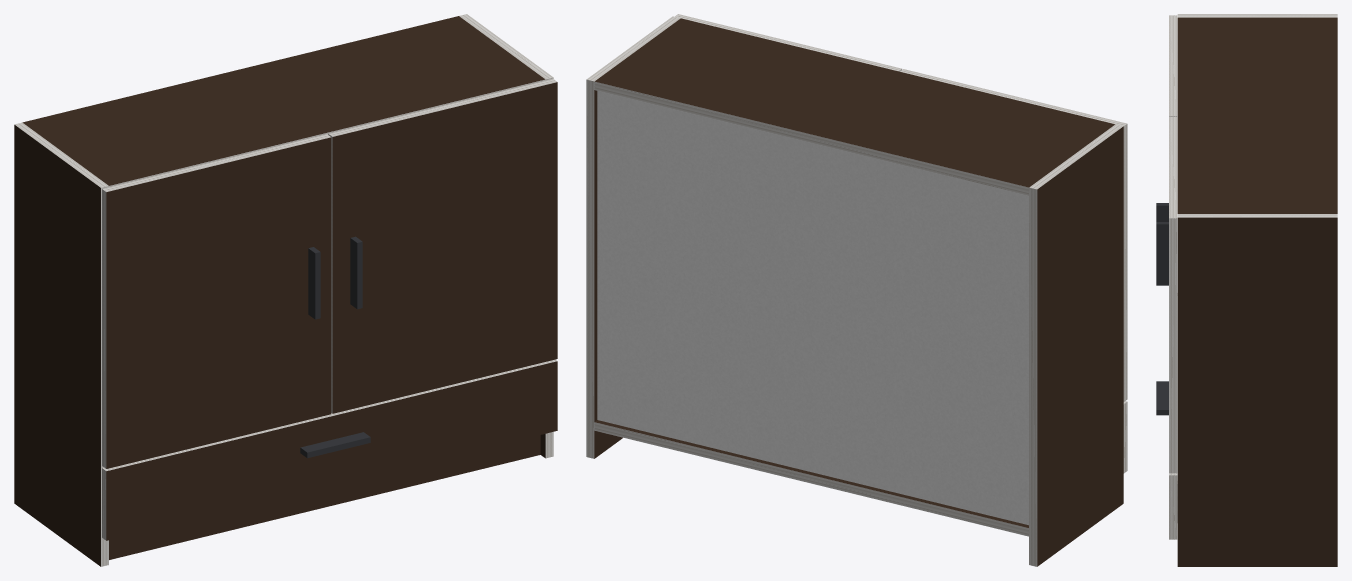
Rendered from BIB-CON-std.glb.
The picture shows the model from 3 angles, left to right: view 1: azimuth 30°, elevation 25°; view 2: azimuth 150°, elevation 25°; view 3: azimuth 270°, elevation 25°; orthographic projection. The views are drawn at different scales.
Parts seen in each view (by area): view 1: door-r:pbr, door-l:pbr, top:pbr, side-l:pbr, d1-front:pbr, plinth:pbr, pull, door-l:sheet:eyJtIjoicGx5Iiwic2lkZSI6ImVkZ2UtbG9uZyIsInNlZWQ, d1-front:sheet:eyJtIjoicGx5Iiwic2lkZSI6ImVkZ2UtbG9uZyIsInNlZ, door-l:sheet:eyJtIjoicGx5Iiwic2lkZSI6ImVkZ2UtZW5kIiwic2VlZCI, door-r:sheet:eyJtIjoicGx5Iiwic2lkZSI6ImVkZ2UtZW5kIiwic2VlZCI, top:sheet:eyJtIjoicGx5Iiwic2lkZSI6ImVkZ2UtbG9uZyIsInNlZWQiOj (+2 smaller); view 2: back:sheet:eyJtIjoibWRmIiwic2lkZSI6ImZhY2UiLCJzZWVkIjoyLCJ0a, top:pbr, side-l:pbr, top:sheet:eyJtIjoicGx5Iiwic2lkZSI6ImVkZ2UtbG9uZyIsInNlZWQiOj, bottom:sheet:eyJtIjoicGx5Iiwic2lkZSI6ImVkZ2UtbG9uZyIsInNlZWQ, side-r:sheet:eyJtIjoicGx5Iiwic2lkZSI6ImVkZ2UtbG9uZyIsInNlZWQ, side-l:sheet:eyJtIjoicGx5Iiwic2lkZSI6ImVkZ2UtbG9uZyIsInNlZWQ, side-r:pbr, bottom:pbr, door-l:sheet:eyJtIjoicGx5Iiwic2lkZSI6ImVkZ2UtbG9uZyIsInNlZWQ, door-r:sheet:eyJtIjoicGx5Iiwic2lkZSI6ImVkZ2UtZW5kIiwic2VlZCI, door-l:sheet:eyJtIjoicGx5Iiwic2lkZSI6ImVkZ2UtZW5kIiwic2VlZCI (+2 smaller); view 3: side-r:pbr, top:pbr, door-r:sheet:eyJtIjoicGx5Iiwic2lkZSI6ImVkZ2UtbG9uZyIsInNlZWQ, pull, door-l:sheet:eyJtIjoicGx5Iiwic2lkZSI6ImVkZ2UtZW5kIiwic2VlZCI, door-r:sheet:eyJtIjoicGx5Iiwic2lkZSI6ImVkZ2UtZW5kIiwic2VlZCI, side-l:sheet:eyJtIjoicGx5Iiwic2lkZSI6ImVkZ2UtZW5kIiwic2VlZCI, side-r:sheet:eyJtIjoicGx5Iiwic2lkZSI6ImVkZ2UtZW5kIiwic2VlZCI, d1-front:sheet:eyJtIjoicGx5Iiwic2lkZSI6ImVkZ2UtZW5kIiwic2VlZ.
Part boxes in pixels (<box>): door-r:pbr: <box>332,82,557,413</box>; door-l:pbr: <box>106,137,331,468</box>; top:pbr: <box>22,16,545,185</box>; side-l:pbr: <box>14,125,100,566</box>; d1-front:pbr: <box>106,361,557,540</box>; plinth:pbr: <box>109,435,540,559</box>; pull: <box>300,236,370,458</box>; door-l:sheet:eyJtIjoicGx5Iiwic2lkZSI6ImVkZ2UtbG9uZyIsInNlZWQ: <box>102,189,106,468</box>; d1-front:sheet:eyJtIjoicGx5Iiwic2lkZSI6ImVkZ2UtbG9uZyIsInNlZ: <box>102,359,557,470</box>; door-l:sheet:eyJtIjoicGx5Iiwic2lkZSI6ImVkZ2UtZW5kIiwic2VlZCI: <box>102,134,330,191</box>; door-r:sheet:eyJtIjoicGx5Iiwic2lkZSI6ImVkZ2UtZW5kIiwic2VlZCI: <box>328,79,556,136</box>; top:sheet:eyJtIjoicGx5Iiwic2lkZSI6ImVkZ2UtbG9uZyIsInNlZWQiOj: <box>109,79,545,186</box>; back:sheet:eyJtIjoibWRmIiwic2lkZSI6ImZhY2UiLCJzZWVkIjoyLCJ0a: <box>597,91,1028,525</box>; top:pbr: <box>595,18,1114,187</box>; side-l:pbr: <box>1037,126,1123,566</box>; top:sheet:eyJtIjoicGx5Iiwic2lkZSI6ImVkZ2UtbG9uZyIsInNlZWQiOj: <box>594,81,1028,195</box>; bottom:sheet:eyJtIjoicGx5Iiwic2lkZSI6ImVkZ2UtbG9uZyIsInNlZWQ: <box>594,422,1028,536</box>; side-r:sheet:eyJtIjoicGx5Iiwic2lkZSI6ImVkZ2UtbG9uZyIsInNlZWQ: <box>586,79,594,458</box>; side-l:sheet:eyJtIjoicGx5Iiwic2lkZSI6ImVkZ2UtbG9uZyIsInNlZWQ: <box>1029,187,1037,566</box>; side-r:pbr: <box>594,90,622,458</box>; bottom:pbr: <box>595,420,1028,527</box>; door-l:sheet:eyJtIjoicGx5Iiwic2lkZSI6ImVkZ2UtbG9uZyIsInNlZWQ: <box>1123,124,1127,401</box>; door-r:sheet:eyJtIjoicGx5Iiwic2lkZSI6ImVkZ2UtZW5kIiwic2VlZCI: <box>675,14,901,71</box>; door-l:sheet:eyJtIjoicGx5Iiwic2lkZSI6ImVkZ2UtZW5kIiwic2VlZCI: <box>900,69,1126,126</box>; side-r:pbr: <box>1177,217,1337,566</box>; top:pbr: <box>1177,17,1337,213</box>; door-r:sheet:eyJtIjoicGx5Iiwic2lkZSI6ImVkZ2UtbG9uZyIsInNlZWQ: <box>1169,218,1177,473</box>; pull: <box>1156,203,1168,415</box>; door-l:sheet:eyJtIjoicGx5Iiwic2lkZSI6ImVkZ2UtZW5kIiwic2VlZCI: <box>1169,15,1177,116</box>; door-r:sheet:eyJtIjoicGx5Iiwic2lkZSI6ImVkZ2UtZW5kIiwic2VlZCI: <box>1169,117,1177,218</box>; side-l:sheet:eyJtIjoicGx5Iiwic2lkZSI6ImVkZ2UtZW5kIiwic2VlZCI: <box>1177,14,1337,17</box>; side-r:sheet:eyJtIjoicGx5Iiwic2lkZSI6ImVkZ2UtZW5kIiwic2VlZCI: <box>1177,214,1337,217</box>; d1-front:sheet:eyJtIjoicGx5Iiwic2lkZSI6ImVkZ2UtZW5kIiwic2VlZ: <box>1169,475,1177,539</box>.
Bounding box in the file's own units: 1 × 0.8 × 0.3766.
55 materials, 42 textured.
